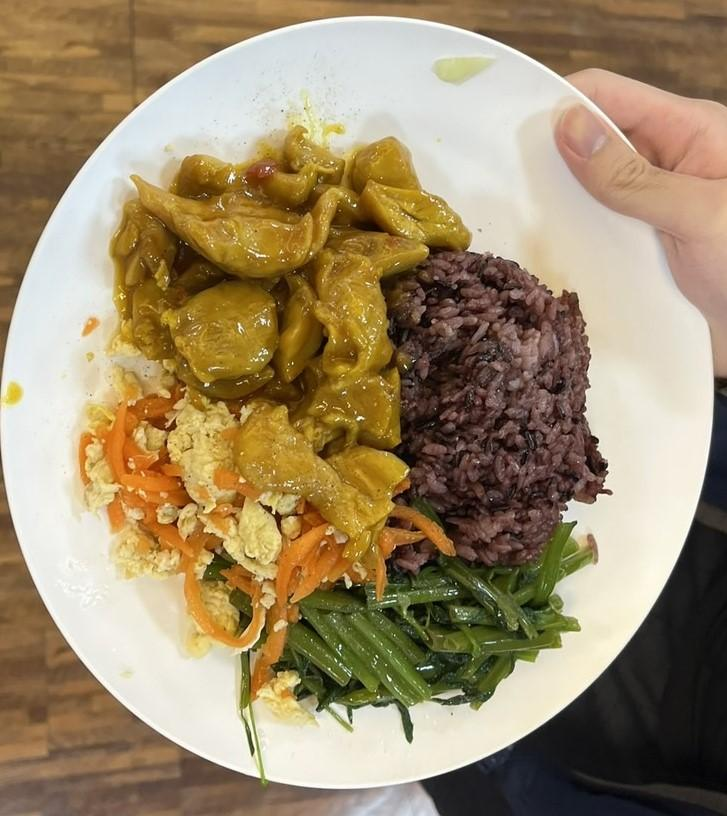big fried chicken leg: (7, 15, 727, 792)
braised fish: (390, 250, 606, 570)
braised fish fillet: (67, 384, 395, 633), (295, 559, 571, 711)
braised pork: (111, 123, 475, 534)
